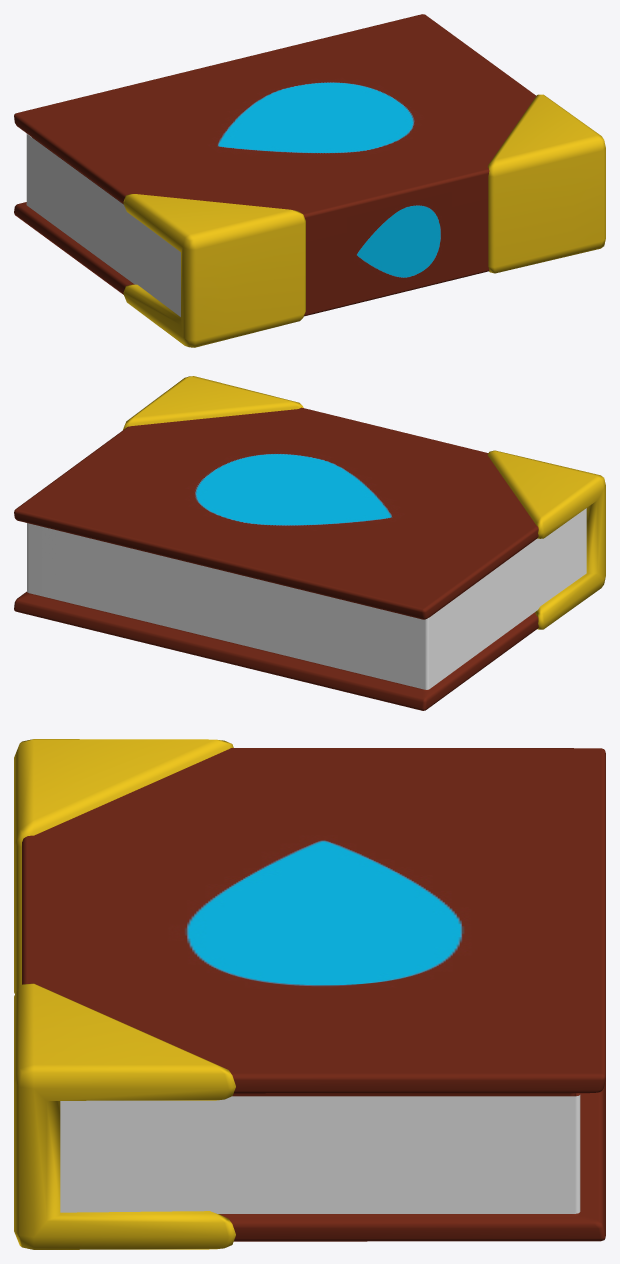
File: BookWater.fbx
The picture shows the model from 3 angles, top to bottom: view 1: azimuth 30°, elevation 25°; view 2: azimuth 150°, elevation 25°; view 3: azimuth 270°, elevation 25°; orthographic projection. The views are drawn at different scales.
Parts seen in each view (by area): view 1: BookWater1; view 2: BookWater1; view 3: BookWater1.
Boxes of the visible parts, x1,y1,x2,y2 form: BookWater1: (14,14,605,347); BookWater1: (14,376,605,710); BookWater1: (14,739,605,1249).
Bounding box in the file's own units: 3.06 × 0.7823 × 2.27.
